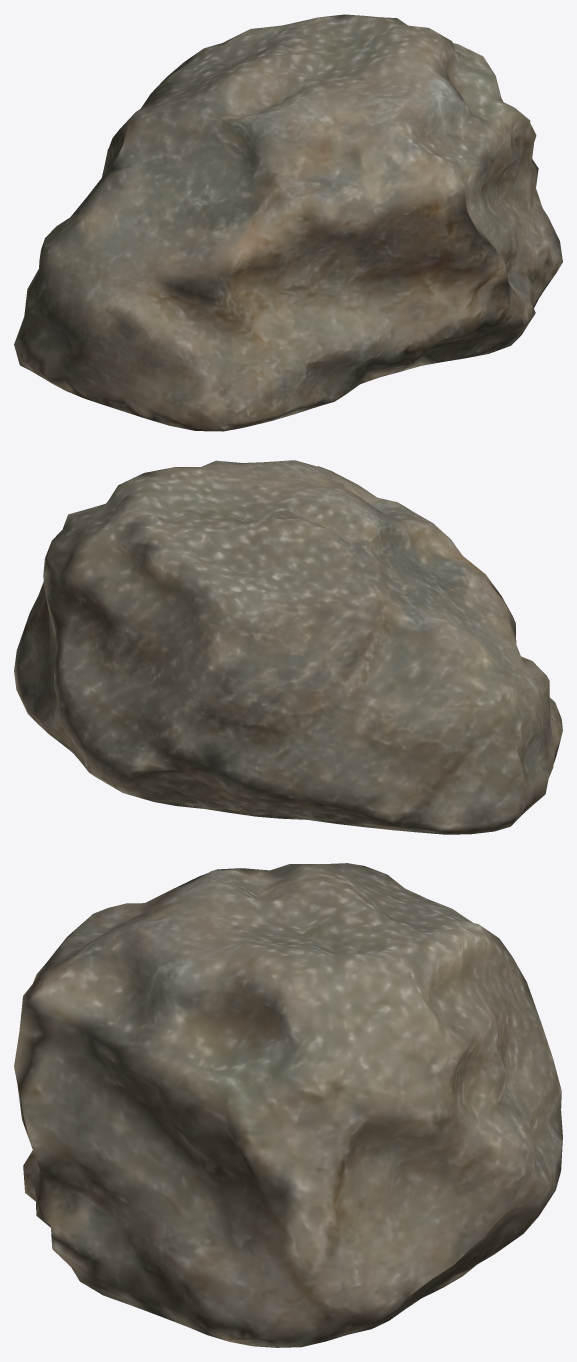
File: Caillou1.fbx
3 renders of one model, top to bottom at view 1: azimuth 30°, elevation 25°; view 2: azimuth 150°, elevation 25°; view 3: azimuth 270°, elevation 25°, orthographic. The views are drawn at different scales.
Visible parts, largest first — view 1: geometry_0; view 2: geometry_0; view 3: geometry_0.
Part boxes in pixels (left/top/right/bottom): geometry_0: left=14, top=14, right=562, bottom=431; geometry_0: left=14, top=460, right=562, bottom=834; geometry_0: left=14, top=863, right=562, bottom=1347.
Size of the model in its own units: 100 by 48.1 by 75.13.
Materials: 1 (1 with a texture image).
